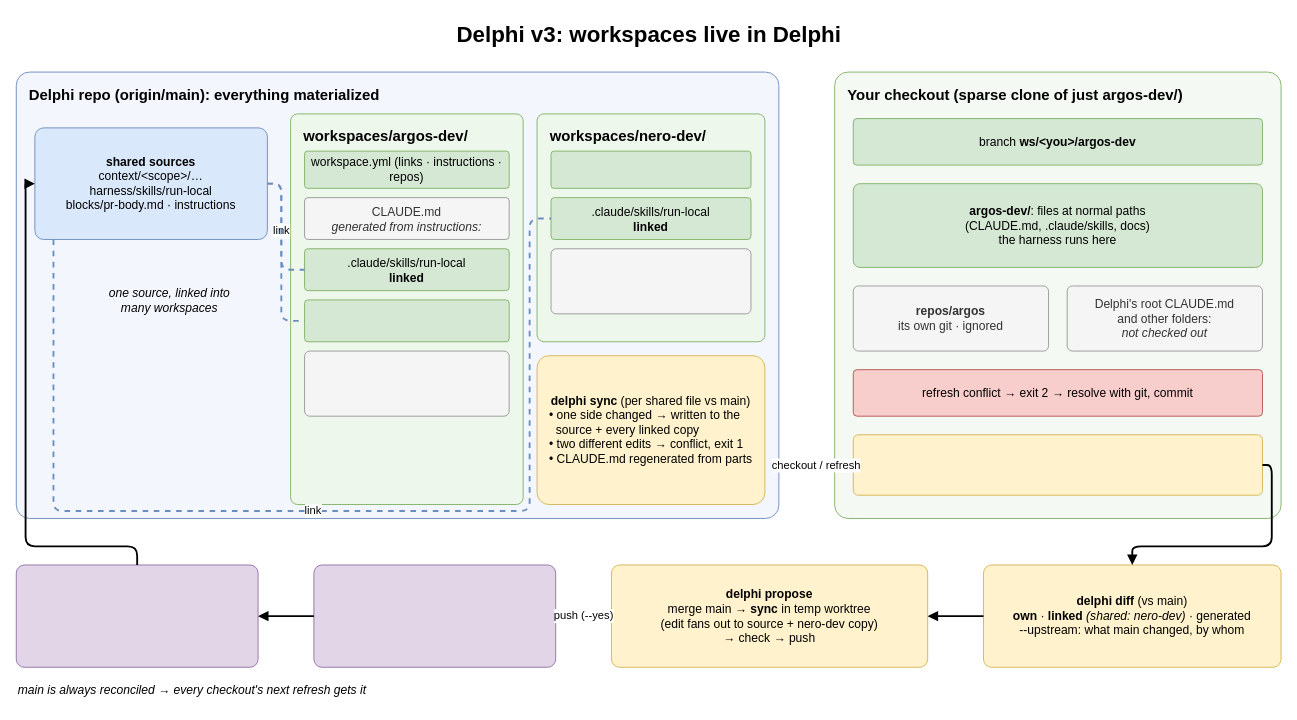
The diagram is 1297 pixels wide and 720 high, and some of its shapes have lost their labels. Here are the shapes that lost their labels. From the top down, the centre of each, then its label:
At point 650,169: "workspace.yml".
At point 650,281: "own files".
At point 406,320: ".claude/skills/open-pr/pr-body.md linked".
At point 406,383: "own files (argos skills, docs/CONTEXT.md) just this workspace".
At point 1057,464: "delphi checkout · delphi refresh (= git merge origin/main)".
At point 136,615: "merge to main CI on main: sync, commit if anything changed".
At point 434,615: "PR ws/<you>/argos-dev one per checkout CI: check + sync --check".
